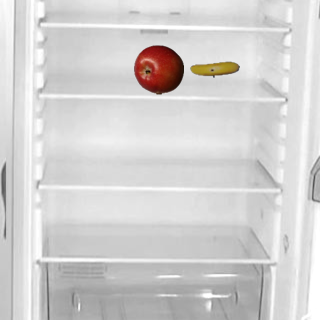Apple Braeburn: (133, 44, 183, 94)
Banana: (189, 44, 239, 94)
